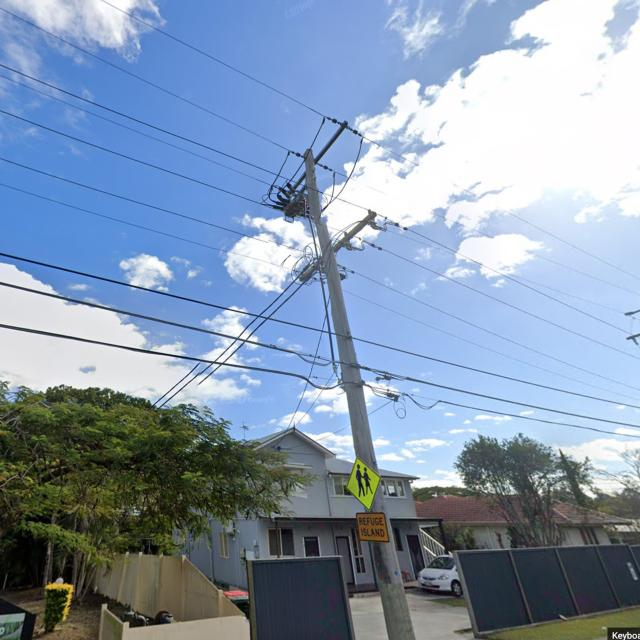HV-switch: (268, 184, 316, 224)
HV-transmission: (288, 117, 361, 193)
LV link: (368, 218, 408, 232), (344, 240, 382, 252)
crossarm: (299, 210, 377, 282), (288, 120, 348, 194)
timber-pole: (304, 148, 416, 640)
